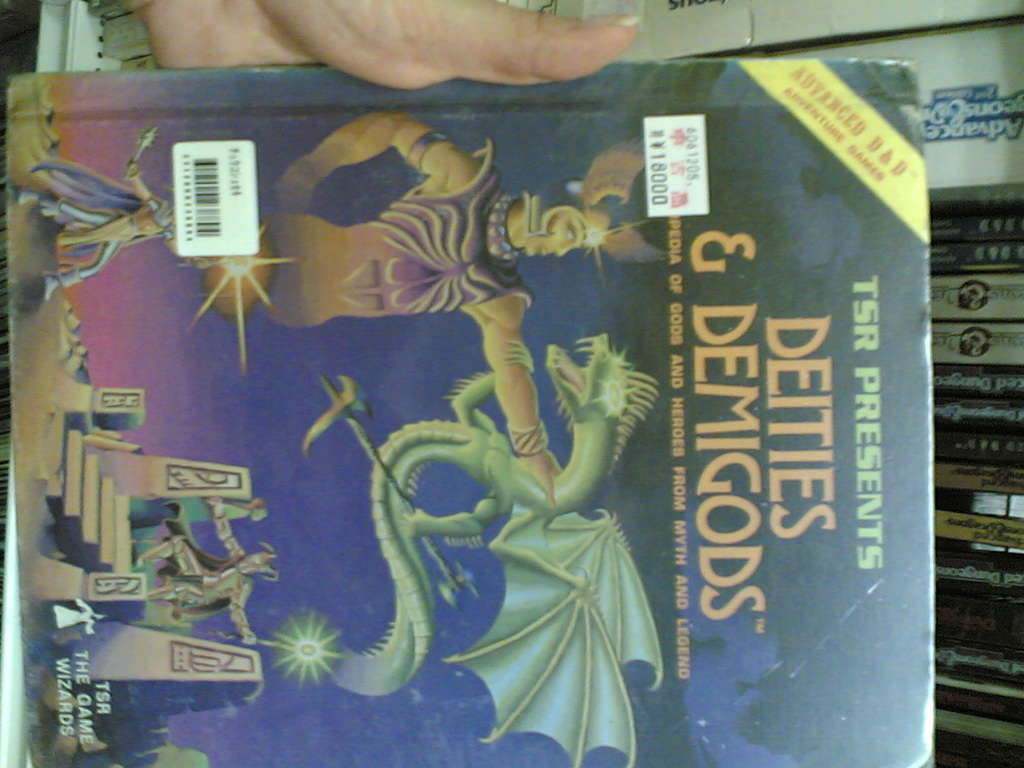Book: (0, 23, 986, 768)
